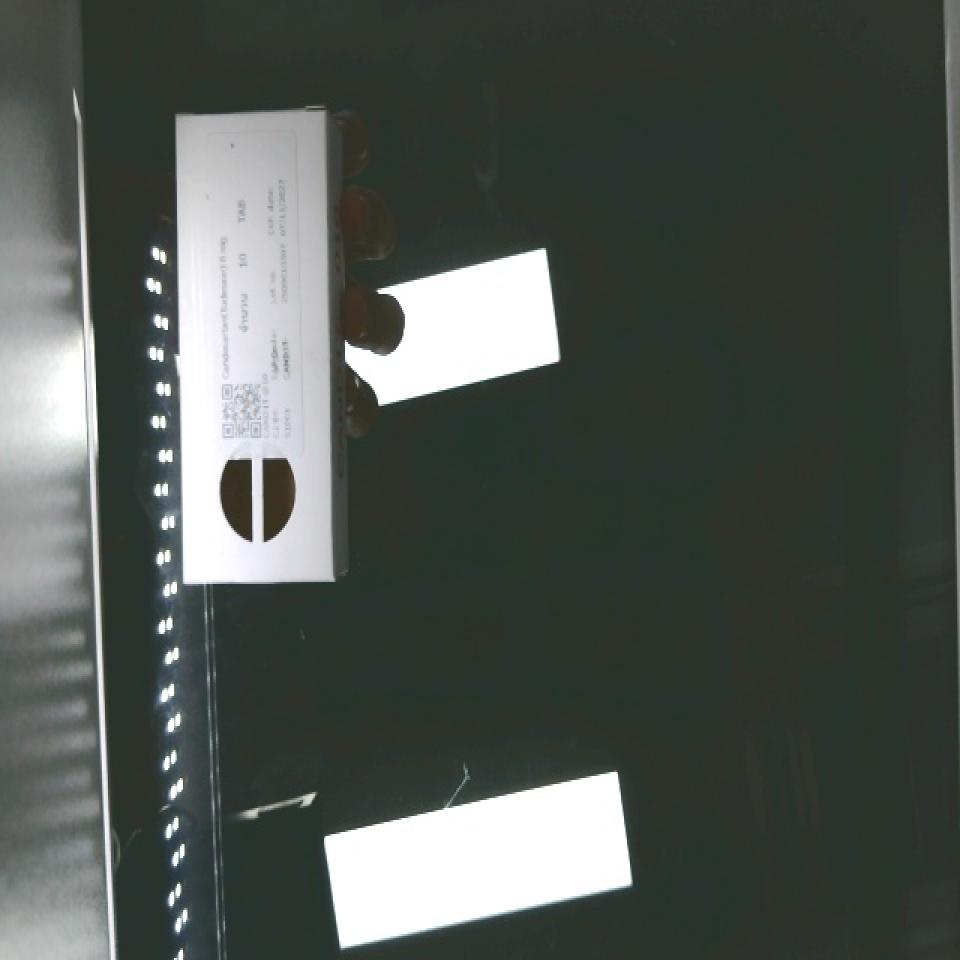medicine_box: (172, 110, 335, 580)
qr_code: (207, 365, 277, 460)
